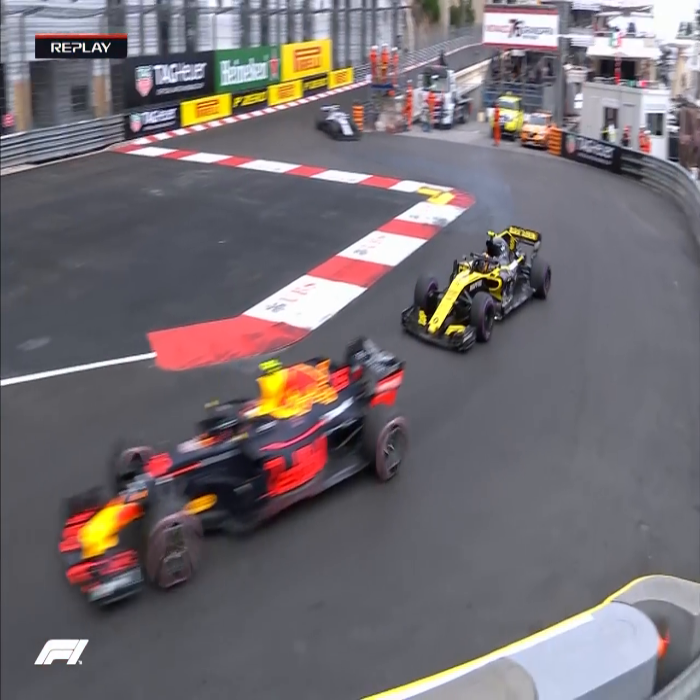f1_car: (23, 338, 430, 609), (400, 213, 559, 354)
